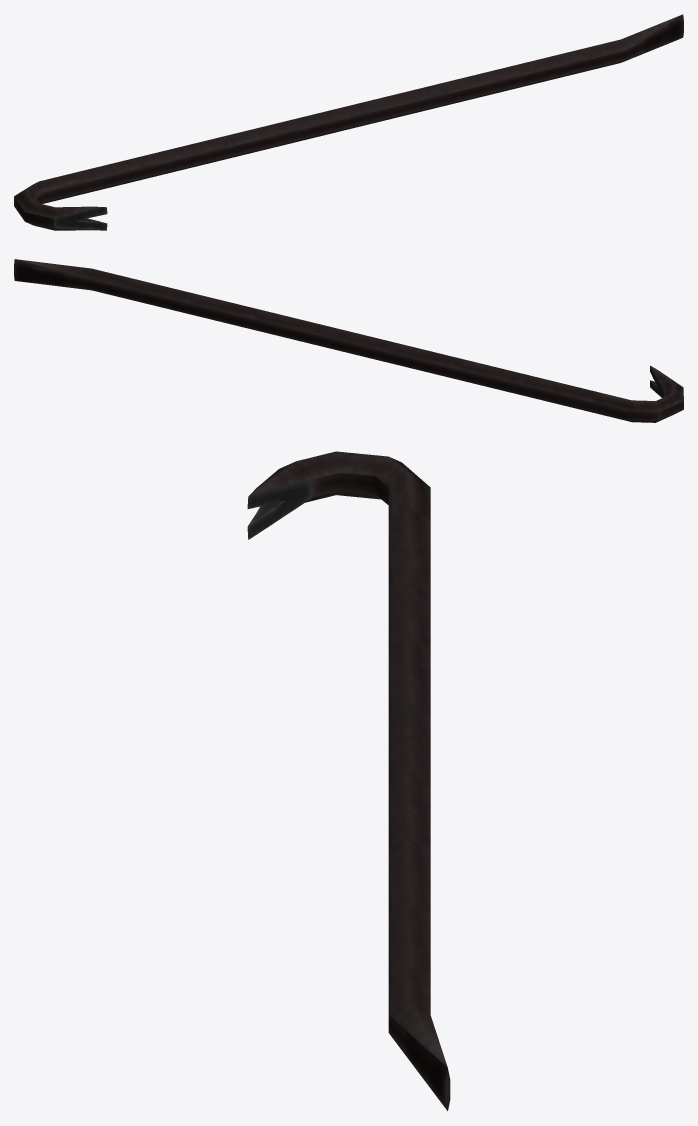
Rendered from crowbar.FBX.
3 views of the same model, one above another, from view 1: azimuth 30°, elevation 25°; view 2: azimuth 150°, elevation 25°; view 3: azimuth 270°, elevation 25° (orthographic). The views are drawn at different scales.
Parts seen in each view (by area): view 1: Cylinder001; view 2: Cylinder001; view 3: Cylinder001.
Boxes of the visible parts, x1=… form: Cylinder001: x1=14, y1=14, x2=683, y2=230; Cylinder001: x1=14, y1=259, x2=683, y2=422; Cylinder001: x1=247, y1=451, x2=450, y2=1110.
Bounding box in the file's own units: 838 × 27.29 × 115.
